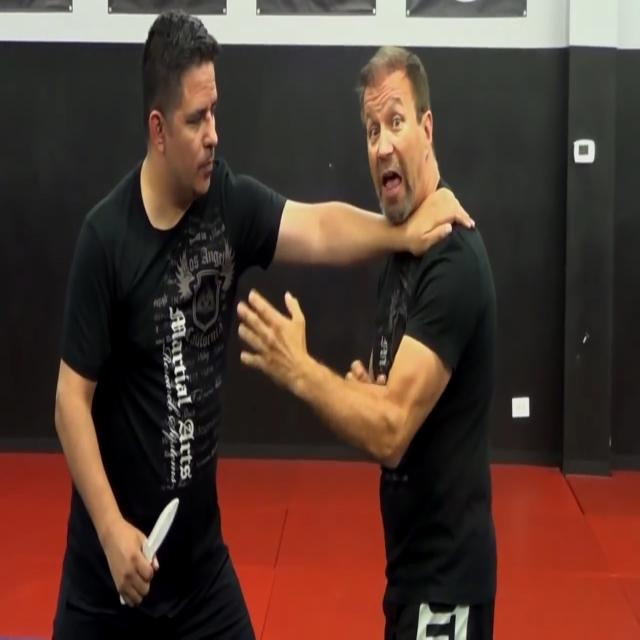knife: (144, 494, 184, 572)
